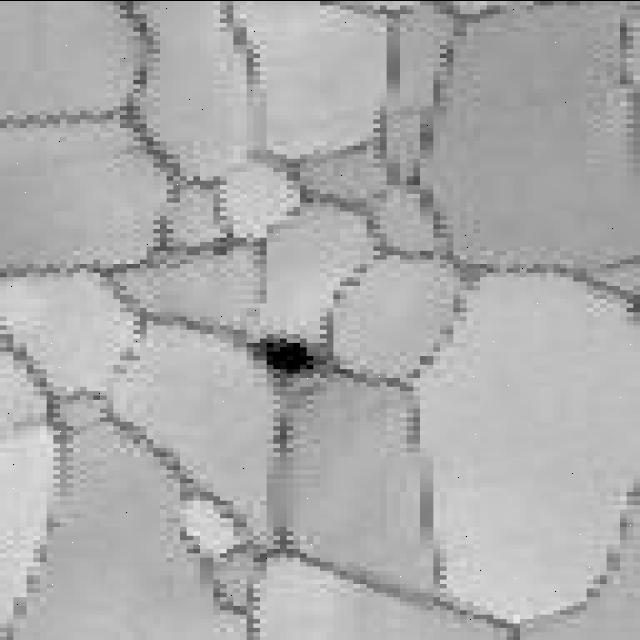good_void: (249, 333, 324, 379)
